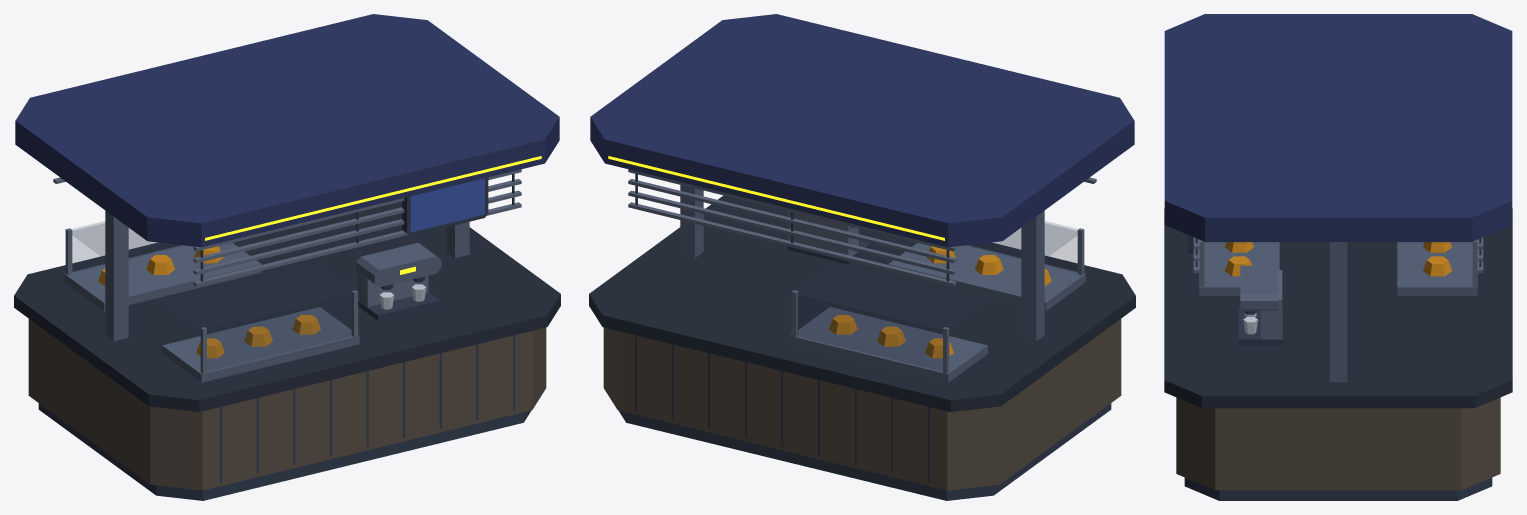
Rendered from mall_kiosk.glb.
3 views of the same model, side by side, from view 1: azimuth 30°, elevation 25°; view 2: azimuth 150°, elevation 25°; view 3: azimuth 270°, elevation 25° (orthographic).
Parts seen in each view (by area): view 1: canopy, worktop, joinery, canopy_stanchion, case_glass, brew_head, boiler, menu, pastry, light_ribbon; view 2: canopy, worktop, joinery, canopy_stanchion, case_glass, boiler, brew_head, pastry, light_ribbon; view 3: canopy, worktop, joinery, canopy_stanchion, brew_head, boiler, pastry.
Part boxes in pixels (left/top/right/bottom): canopy: left=15, top=14, right=559, bottom=247; worktop: left=14, top=201, right=560, bottom=411; joinery: left=28, top=319, right=546, bottom=490; canopy_stanchion: left=64, top=210, right=469, bottom=382; case_glass: left=68, top=221, right=352, bottom=371; brew_head: left=38, top=174, right=531, bottom=500; boiler: left=53, top=169, right=521, bottom=373; menu: left=410, top=178, right=484, bottom=232; pastry: left=98, top=246, right=320, bottom=358; light_ribbon: left=205, top=156, right=541, bottom=274; canopy: left=590, top=14, right=1134, bottom=247; worktop: left=589, top=195, right=1135, bottom=411; joinery: left=603, top=319, right=1121, bottom=490; canopy_stanchion: left=680, top=185, right=1085, bottom=382; case_glass: left=797, top=221, right=1081, bottom=371; boiler: left=628, top=169, right=1096, bottom=373; brew_head: left=618, top=174, right=1111, bottom=500; pastry: left=829, top=246, right=1051, bottom=358; light_ribbon: left=608, top=156, right=944, bottom=240; canopy: left=1164, top=14, right=1512, bottom=241; worktop: left=1164, top=208, right=1512, bottom=408; joinery: left=1176, top=397, right=1500, bottom=490; canopy_stanchion: left=1199, top=240, right=1477, bottom=382; brew_head: left=1184, top=235, right=1492, bottom=500; boiler: left=1193, top=237, right=1483, bottom=339; pastry: left=1225, top=242, right=1451, bottom=276.
Size of the model in its own units: 3.6 by 2.4 by 2.6.
